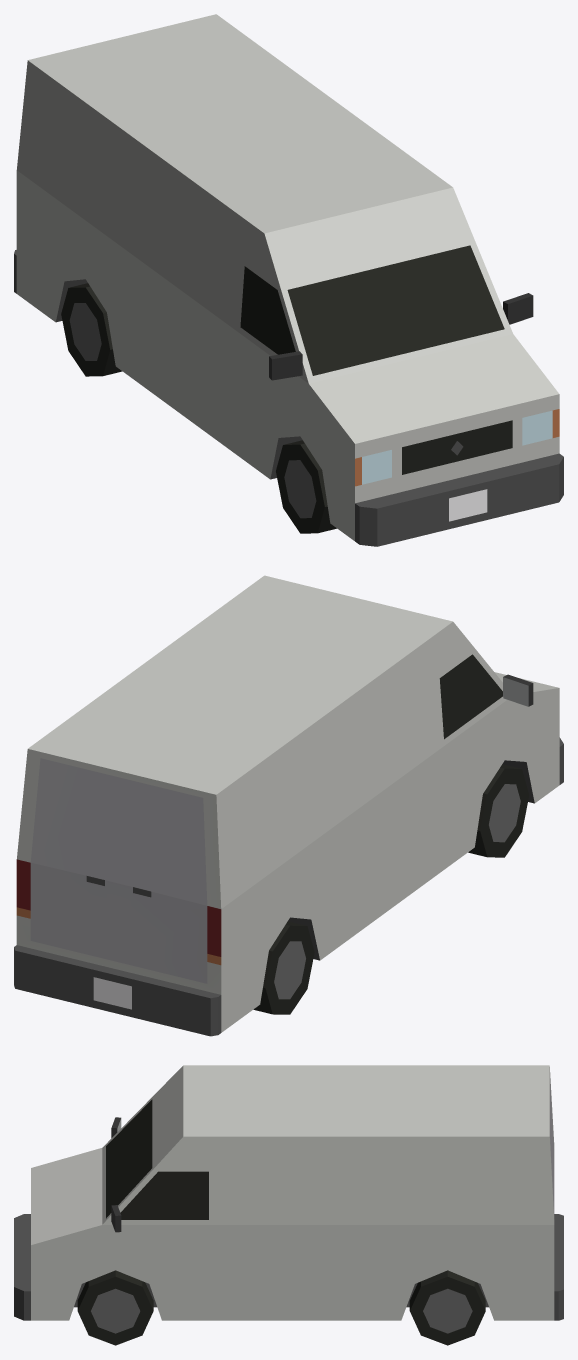
The model's file is Veh_Van_03_White.glb.
3 renders of one model, top to bottom at view 1: azimuth 30°, elevation 25°; view 2: azimuth 150°, elevation 25°; view 3: azimuth 270°, elevation 25°, orthographic. The views are drawn at different scales.
Parts seen in each view (by area): view 1: Van_03_White, Wheel_FR, Wheel_RR; view 2: Van_03_White, Wheel_FR, Wheel_RR; view 3: Van_03_White, Wheel_FL, Wheel_RL.
Boxes of the visible parts, <box> form: Van_03_White: <box>14,14,563,546</box>; Wheel_FR: <box>276,440,336,533</box>; Wheel_RR: <box>61,283,122,376</box>; Van_03_White: <box>14,575,563,1036</box>; Wheel_FR: <box>468,764,529,857</box>; Wheel_RR: <box>253,921,314,1014</box>; Van_03_White: <box>14,1065,563,1320</box>; Wheel_FL: <box>77,1270,153,1345</box>; Wheel_RL: <box>409,1270,485,1345</box>.
Size of the model in its own units: 1.41 by 1.37 by 3.31.
1 material, 1 textured.
